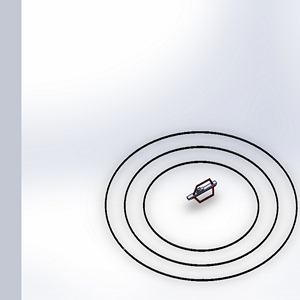circle: (102, 125, 298, 290)
submarine: (182, 171, 226, 213)
